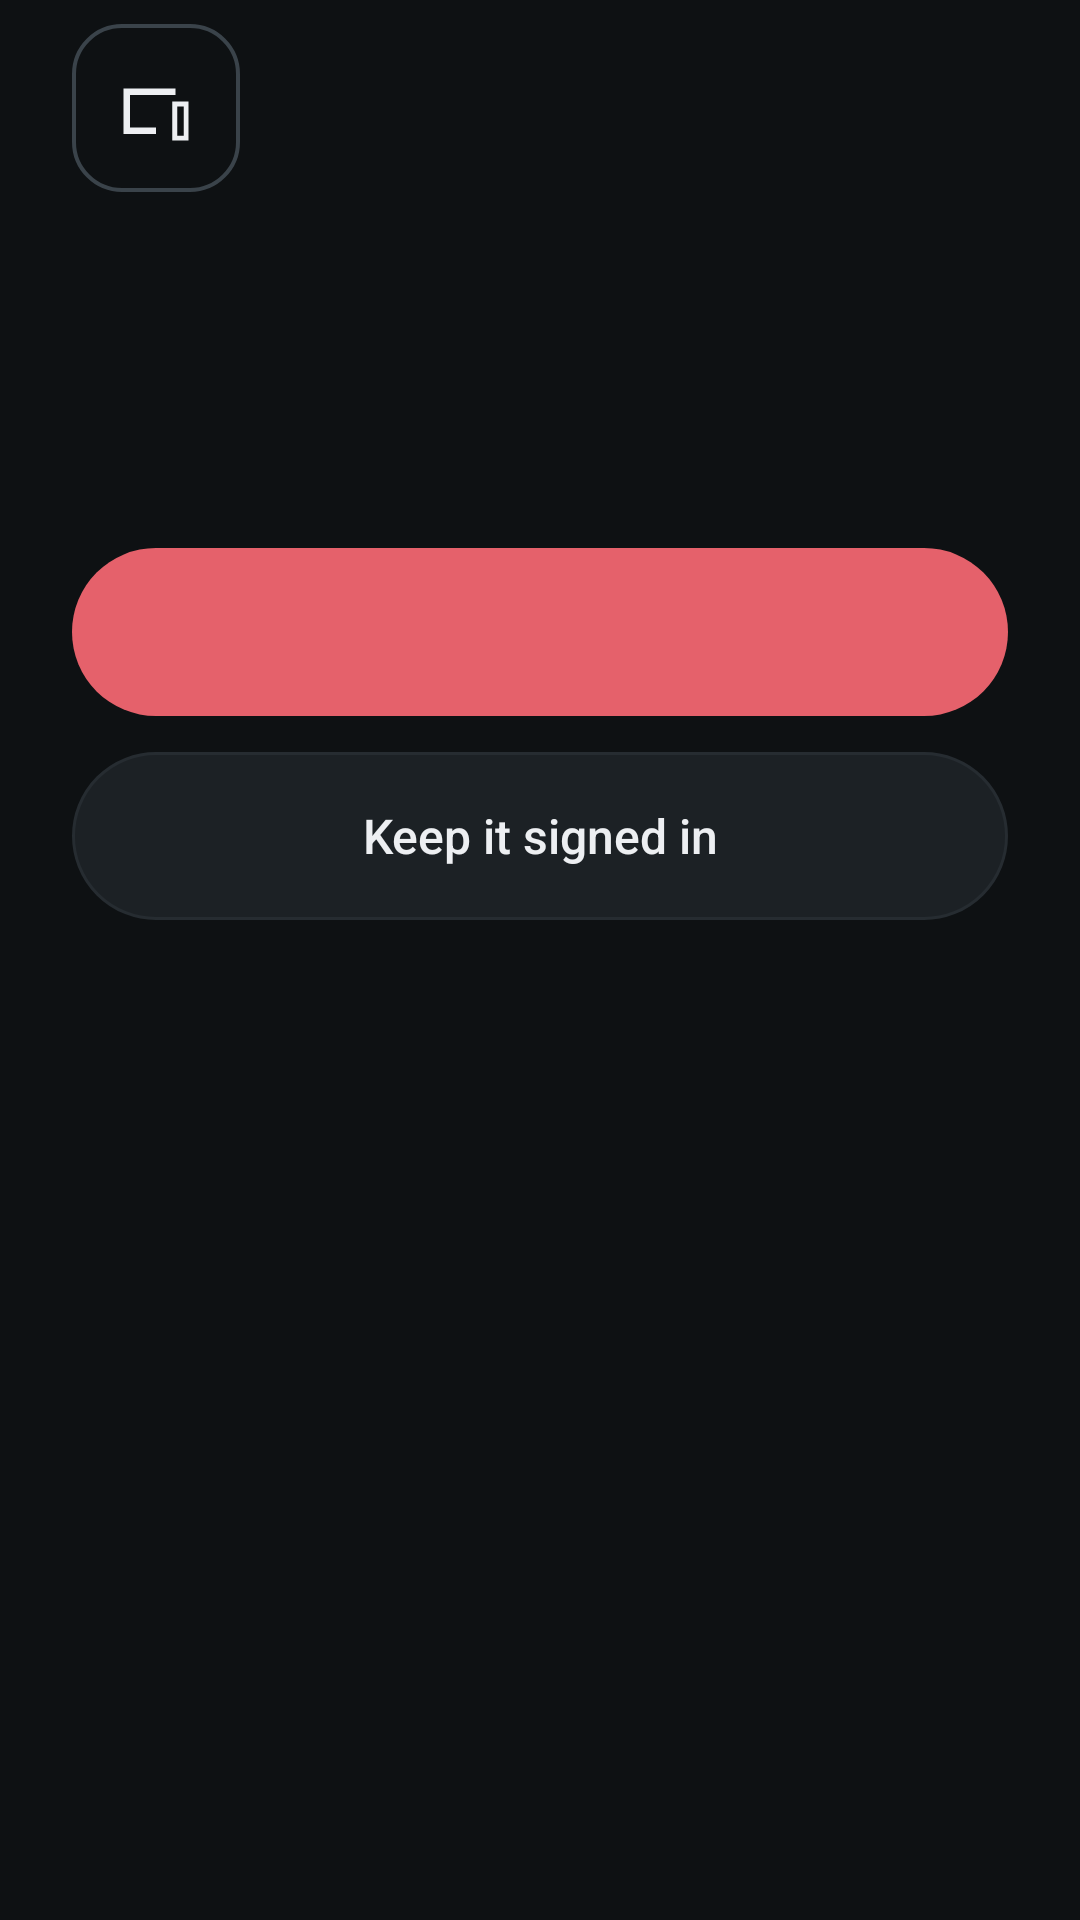

Point at icon controls on the screen. Image size 1080w x 1920h, points as (x=x, y=y).
devices: (x=156, y=108)
